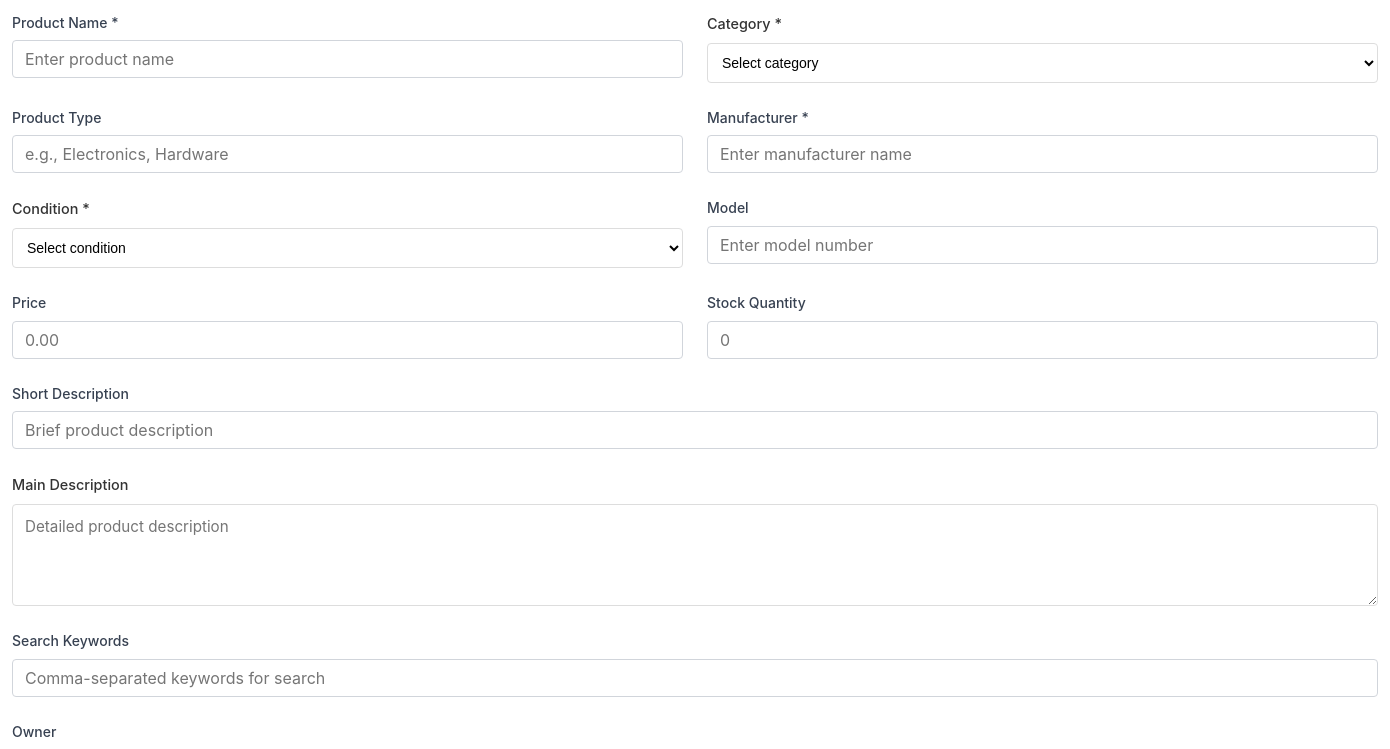
it: ProductForm - Real-time Validation › should validate category selection on blur
# Focus and blur without selecting
Step 1. Click the dropdown labelled "Category *" → [1042, 63], box [707,43,1378,83]
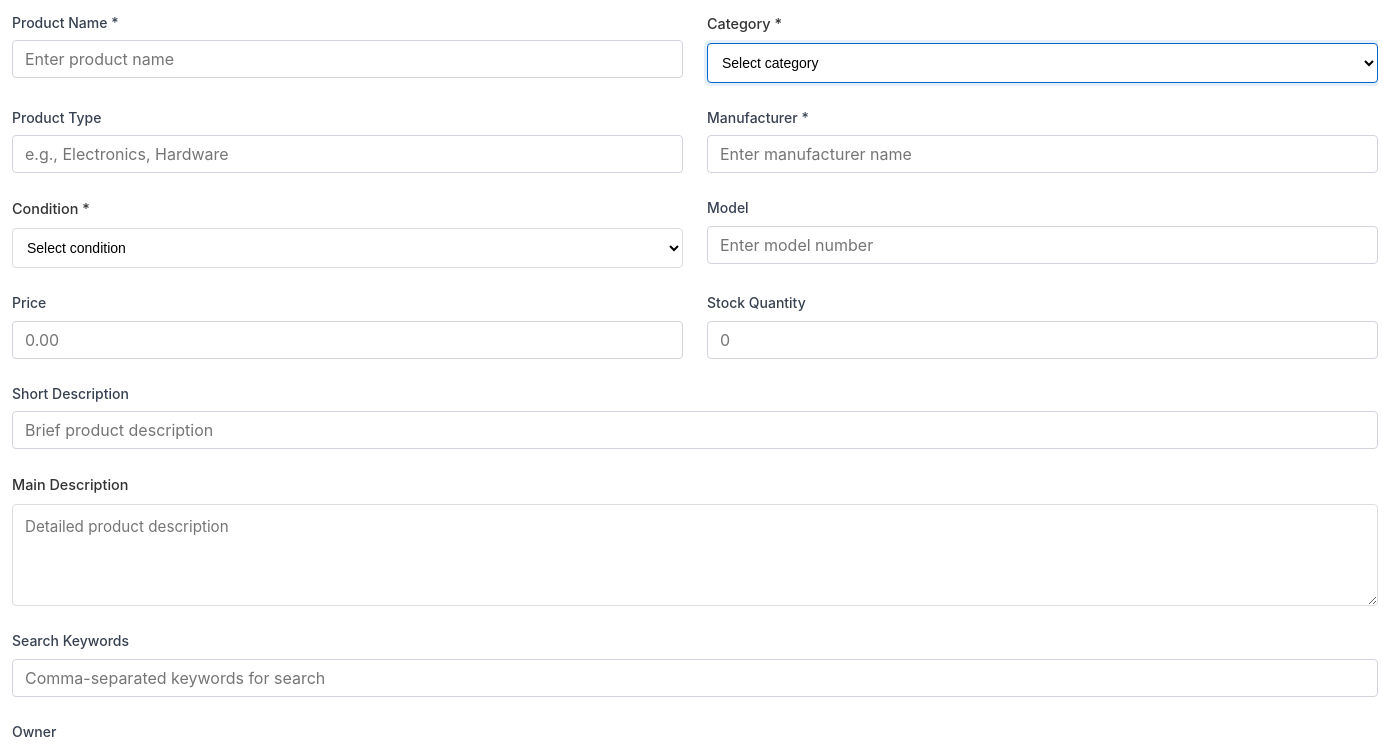
Step 2. Press Tab
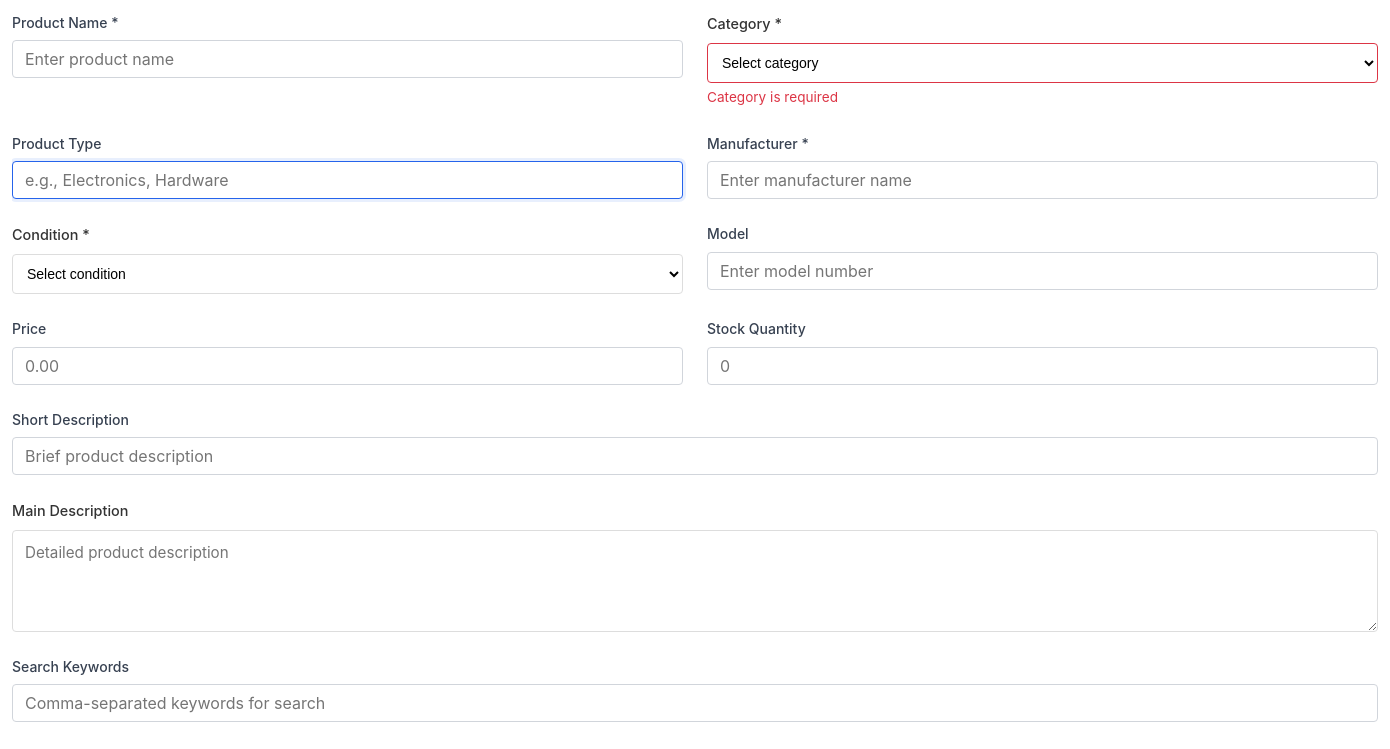
Result: the text "Category is required" is shown at [707,89,838,105]
